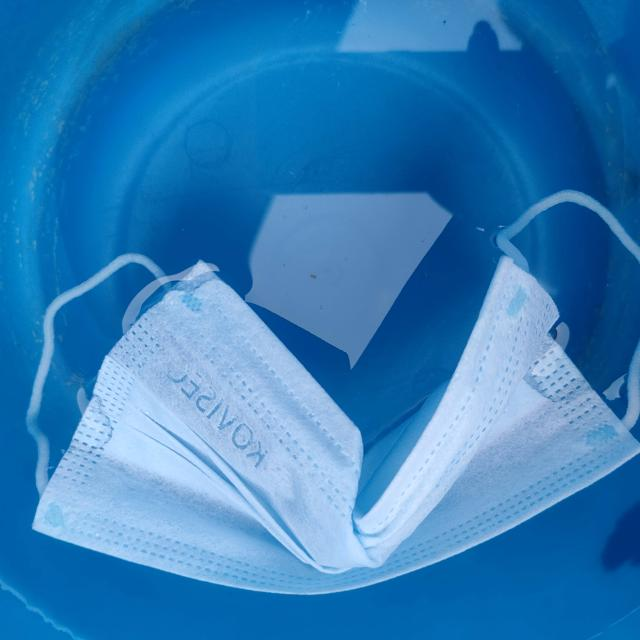mask: (2, 182, 640, 598)
